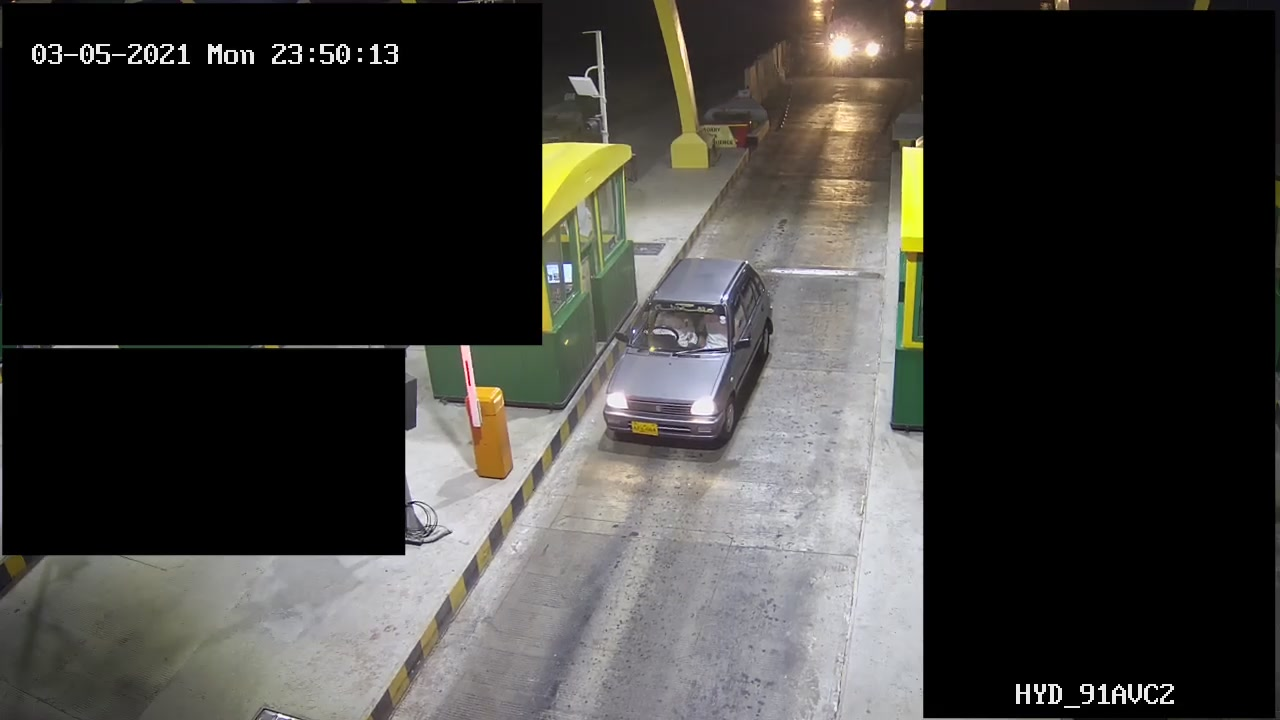F1: (599, 252, 787, 456)
